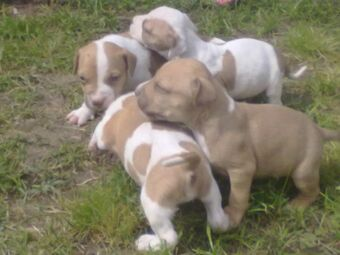Perro Pitbull: (134, 60, 241, 137), (64, 36, 140, 116), (122, 5, 201, 60)
